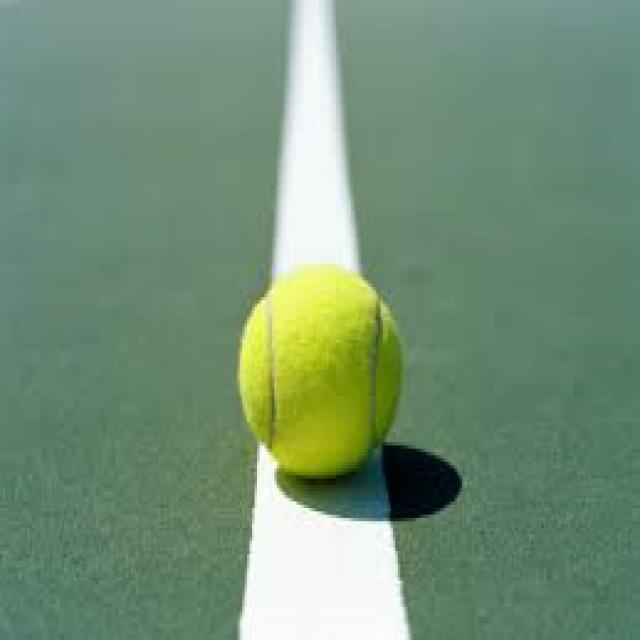ball: (233, 260, 408, 490)
